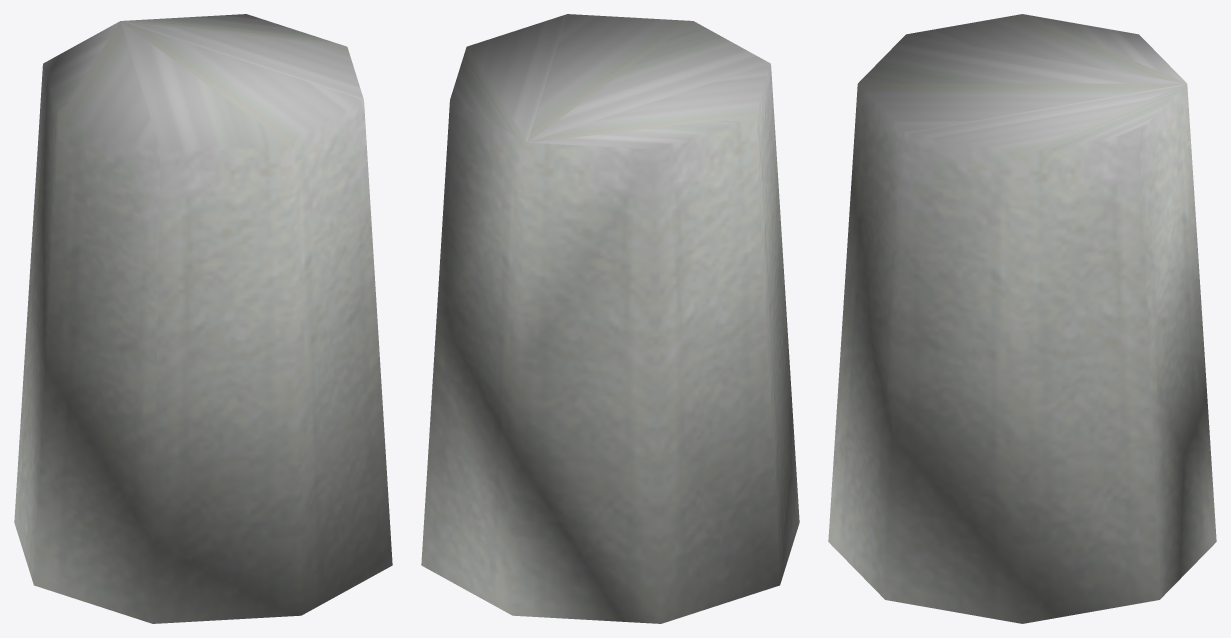
The model's file is general_obj_bigtower08.fbx.
3 renders of one model, left to right at view 1: azimuth 30°, elevation 25°; view 2: azimuth 150°, elevation 25°; view 3: azimuth 270°, elevation 25°, orthographic.
Parts seen in each view (by area): view 1: Sphere01; view 2: Sphere01; view 3: Sphere01.
Boxes of the visible parts, x1=… form: Sphere01: x1=14, y1=14, x2=392, y2=623; Sphere01: x1=421, y1=14, x2=799, y2=623; Sphere01: x1=828, y1=14, x2=1216, y2=623.
Bounding box in the file's own units: 3.7 × 4.82 × 3.7.
